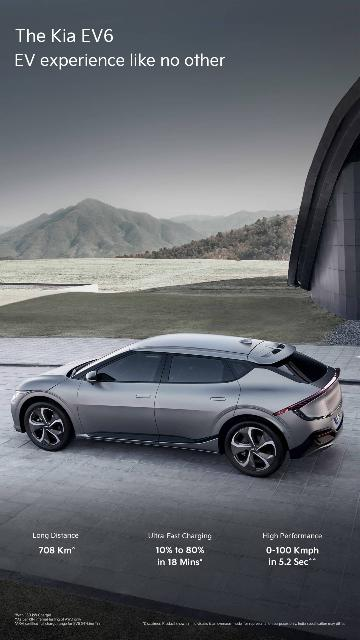kia: (9, 332, 344, 478)
